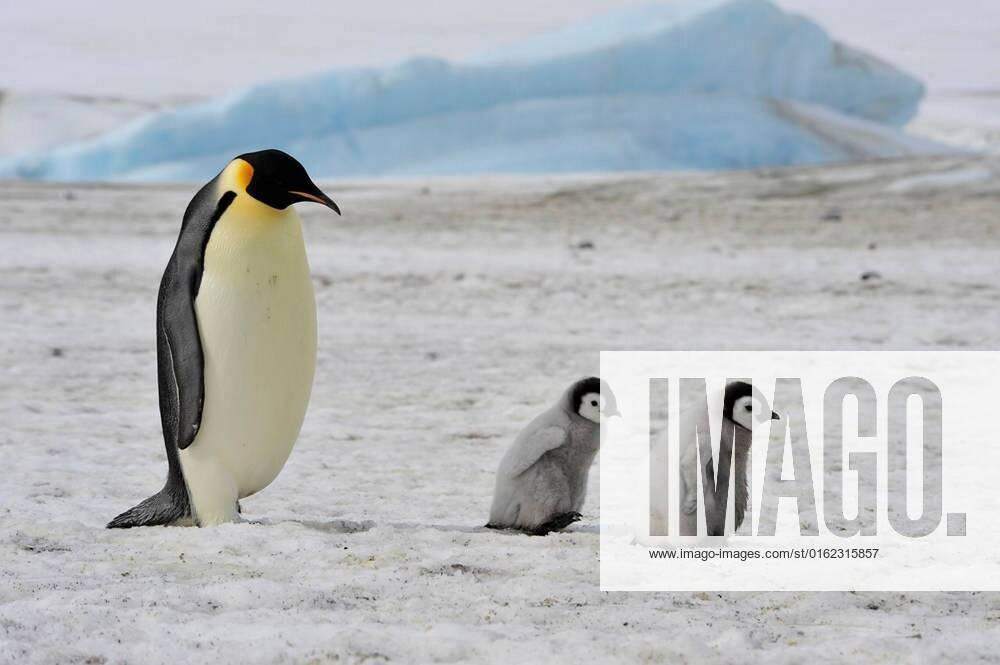emporer: (103, 134, 369, 549)
